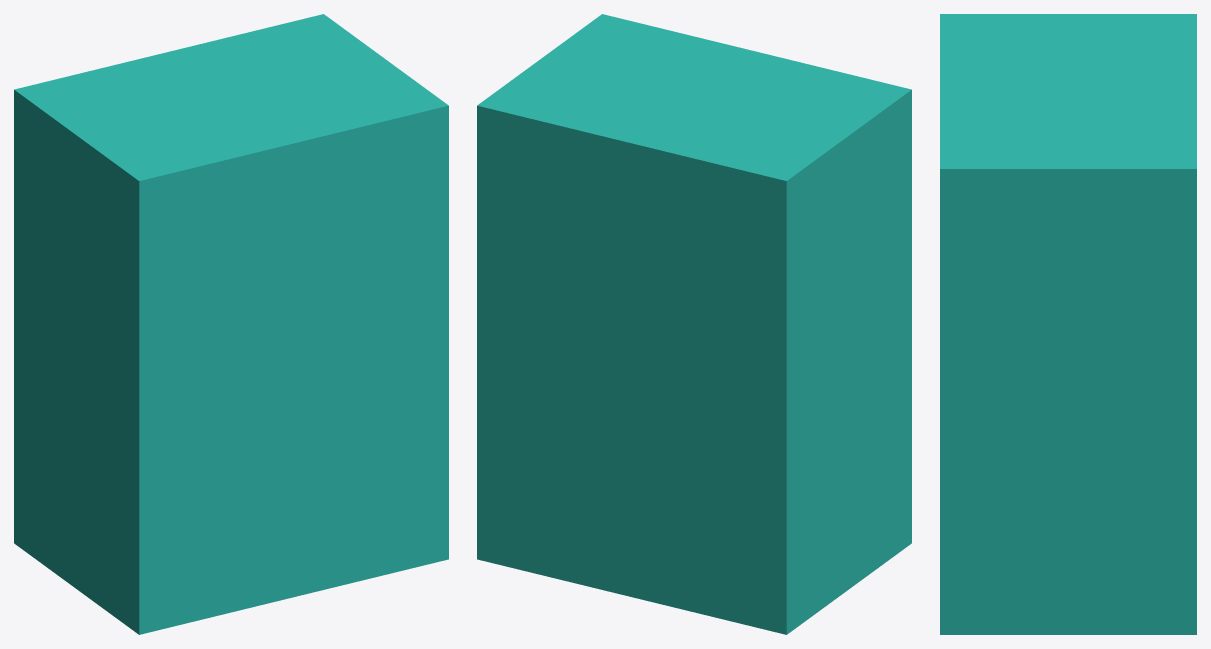
File: demo-plain.glb
3 views of the same model, side by side, from view 1: azimuth 30°, elevation 25°; view 2: azimuth 150°, elevation 25°; view 3: azimuth 270°, elevation 25° (orthographic). The views are drawn at different scales.
Parts seen in each view (by area): view 1: modelo animado; view 2: modelo animado; view 3: modelo animado.
Boxes of the visible parts, left/top/right/bottom form: modelo animado: left=14, top=14, right=448, bottom=634; modelo animado: left=477, top=14, right=911, bottom=634; modelo animado: left=940, top=14, right=1196, bottom=634.
Size of the model in its own units: 1 by 1.4 by 0.7.
1 material, 1 textured.
